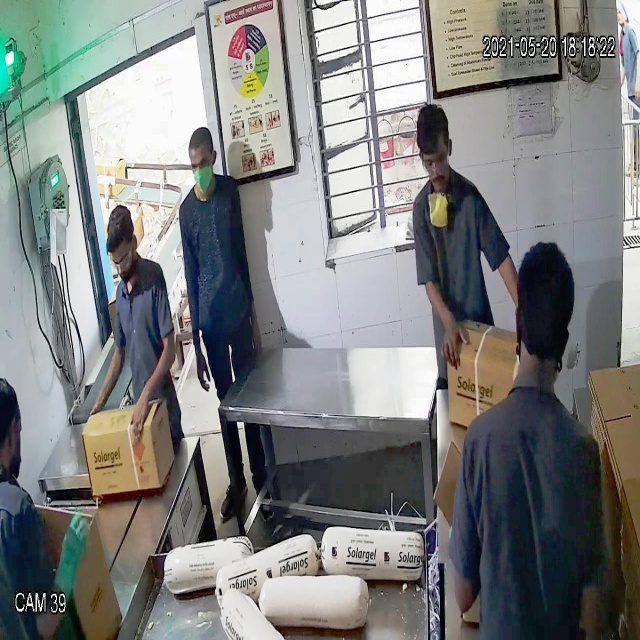Gafas: (415, 148, 455, 174), (108, 243, 137, 276)
Sin_gafas: (187, 152, 218, 177)
